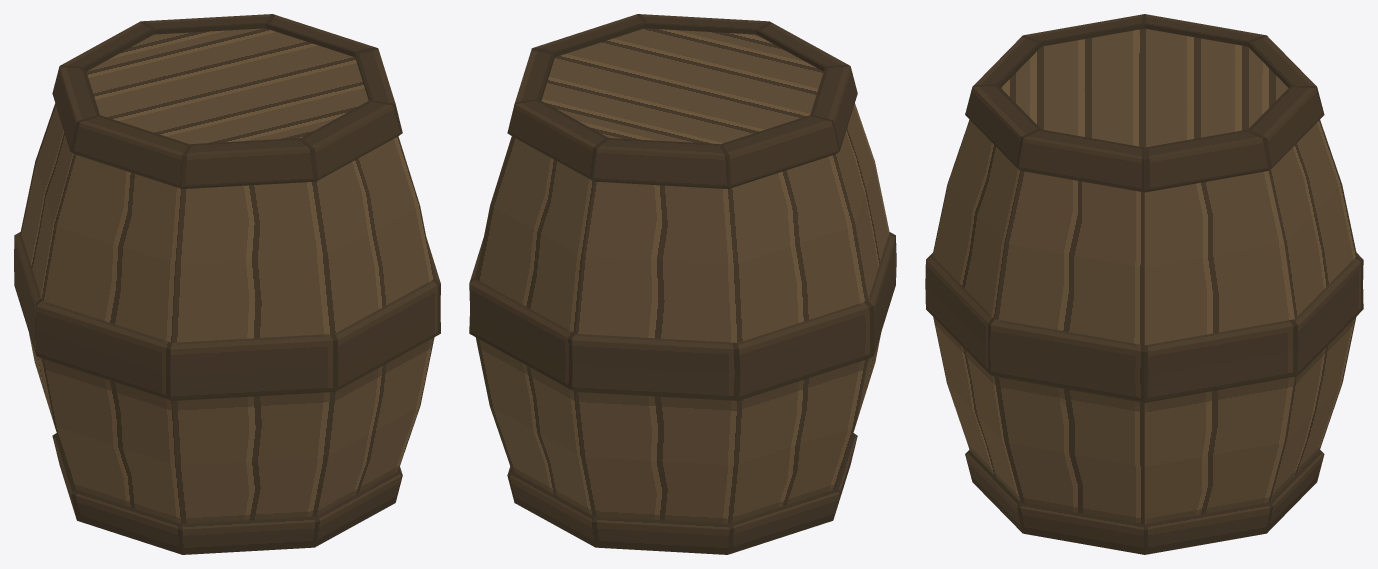
The model's file is BarrelLowPolyPrincipledBSDF3.glb.
The picture shows the model from 3 angles, left to right: view 1: azimuth 30°, elevation 25°; view 2: azimuth 150°, elevation 25°; view 3: azimuth 270°, elevation 25°; orthographic projection.
Parts seen in each view (by area): view 1: Cylinder; view 2: Cylinder; view 3: Cylinder.
Part boxes in pixels (x1,y1,x2,y2): Cylinder: (14, 14, 440, 554); Cylinder: (469, 14, 896, 554); Cylinder: (925, 14, 1363, 554).
Bounding box in the file's own units: 1.5 × 1.5 × 1.5.
Materials: 1 (1 with a texture image).
